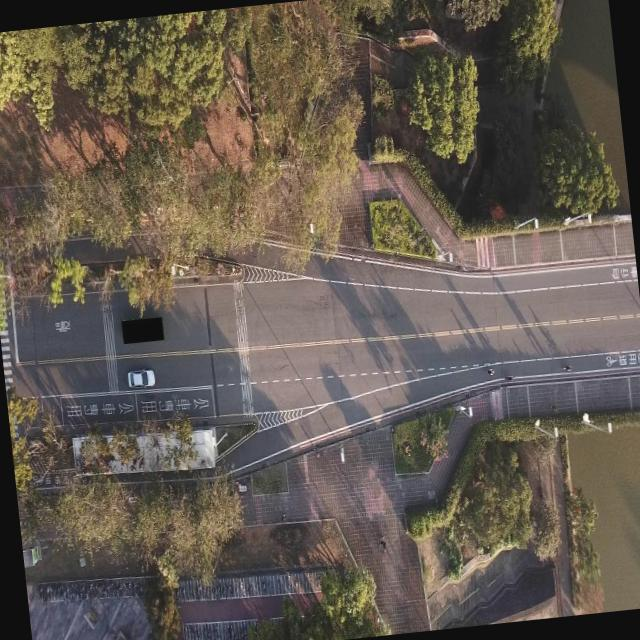car: (124, 364, 154, 390)
